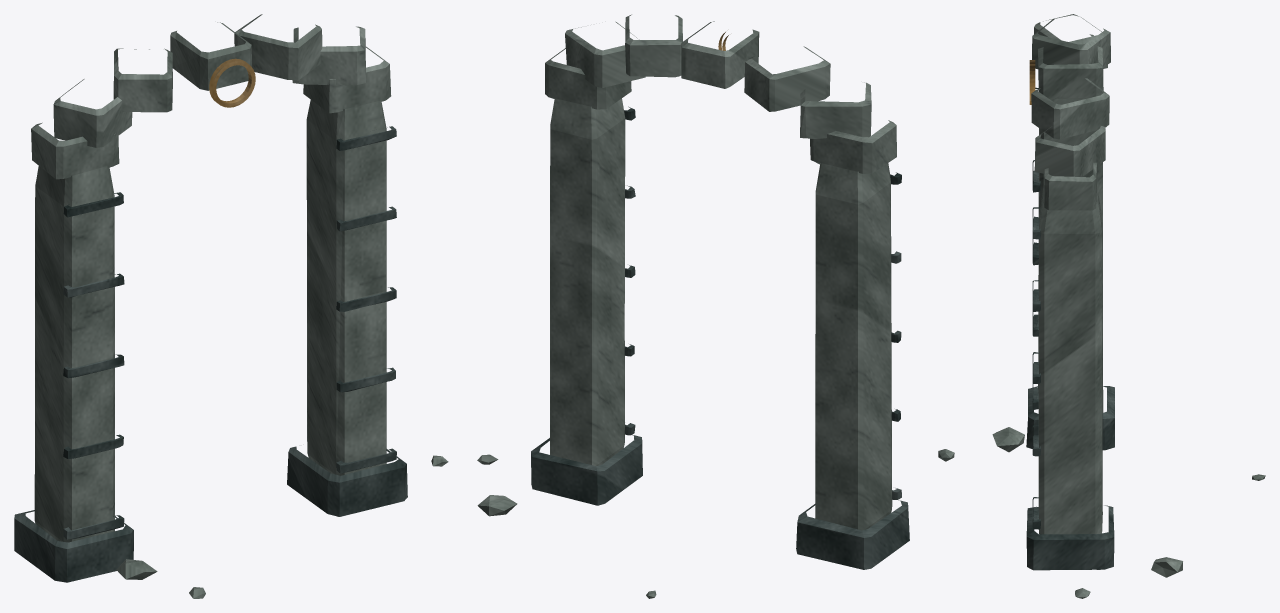
Rendered from 0302_archway_02.glb.
3 views of the same model, side by side, from view 1: azimuth 30°, elevation 25°; view 2: azimuth 150°, elevation 25°; view 3: azimuth 270°, elevation 25° (orthographic). The views are drawn at different scales.
Visible parts, largest first — view 1: stone, stone_dark, brass; view 2: stone, stone_dark; view 3: stone, stone_dark.
Boxes of the visible parts, x1=… form: stone: x1=31, y1=14, x2=448, y2=598; stone_dark: x1=14, y1=126, x2=407, y2=582; brass: x1=209, y1=58, x2=255, y2=107; stone: x1=477, y1=14, x2=896, y2=598; stone_dark: x1=531, y1=106, x2=909, y2=569; stone: x1=938, y1=14, x2=1265, y2=598; stone_dark: x1=1026, y1=87, x2=1114, y2=570.
Size of the model in its own units: 4.21 by 4.76 by 3.19.
3 materials, 3 textured.
